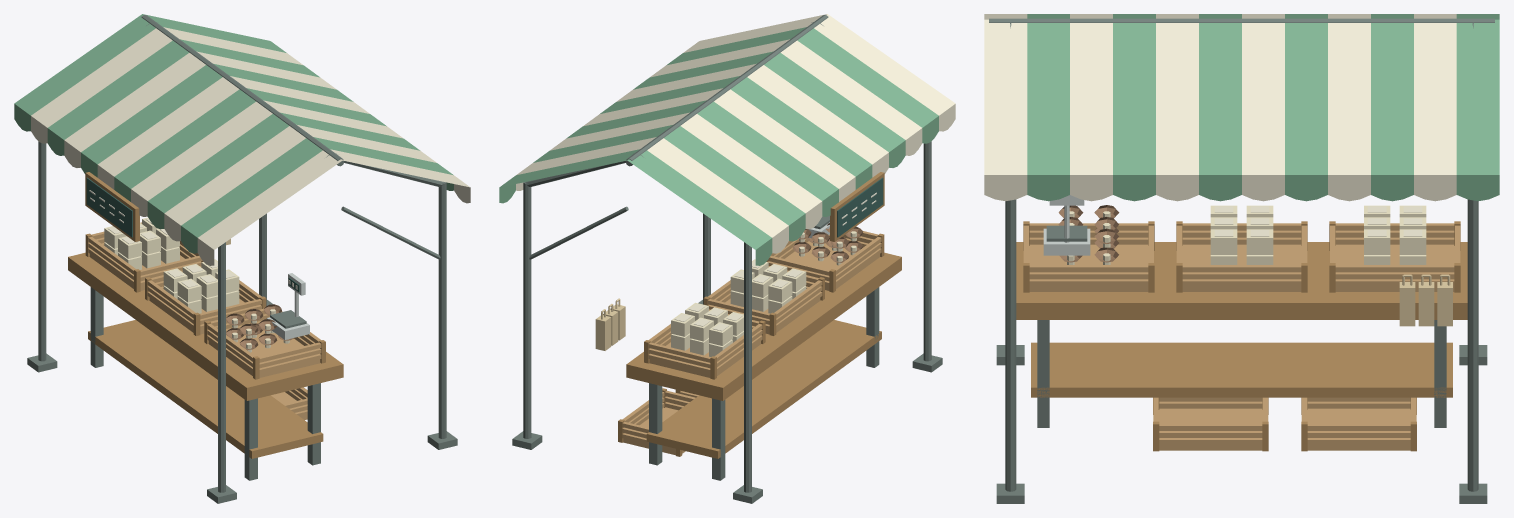
Rendered from market-tofu.glb.
3 renders of one model, left to right at view 1: azimuth 30°, elevation 25°; view 2: azimuth 150°, elevation 25°; view 3: azimuth 270°, elevation 25°, orthographic. The views are drawn at different scales.
Visible parts, largest first — view 1: tofu market stall; view 2: tofu market stall; view 3: tofu market stall.
Part boxes in pixels (x1,y1,x2,y2): tofu market stall: [14, 14, 470, 503]; tofu market stall: [499, 14, 955, 503]; tofu market stall: [984, 14, 1499, 503].
Size of the model in its own units: 2.49 by 2.89 by 3.3.
